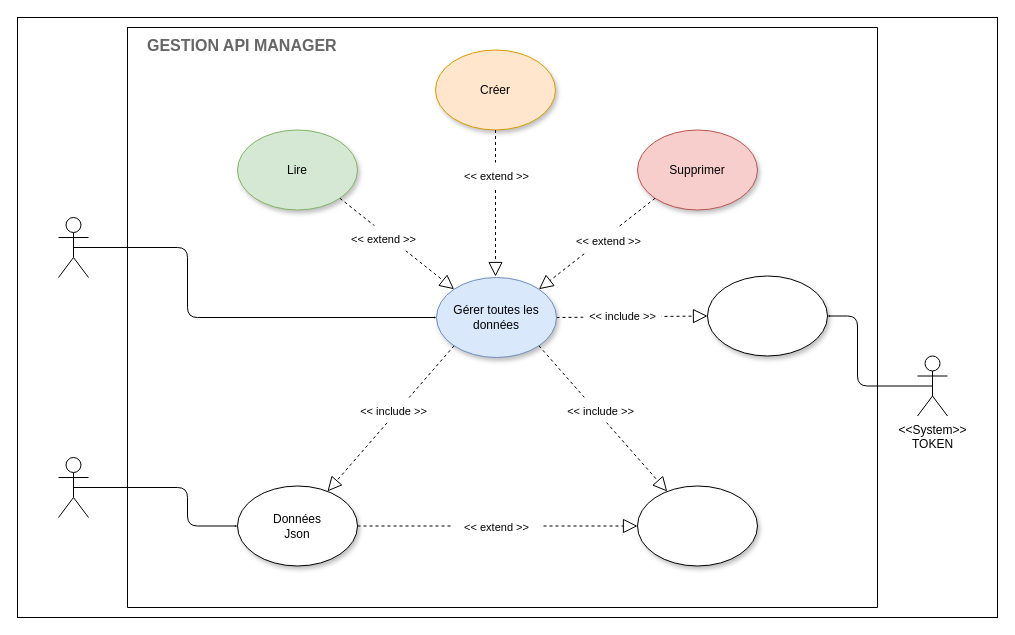
The diagram is 1015 pixels wide and 635 high, and some of its shapes have lost their labels. Each missing label, with the centre of its shape:
"<<System>> DATABASE" belongs at point (73, 487).
"Authentification" belongs at point (698, 527).
"MANAGER" belongs at point (73, 247).
"Token" belongs at point (768, 317).
